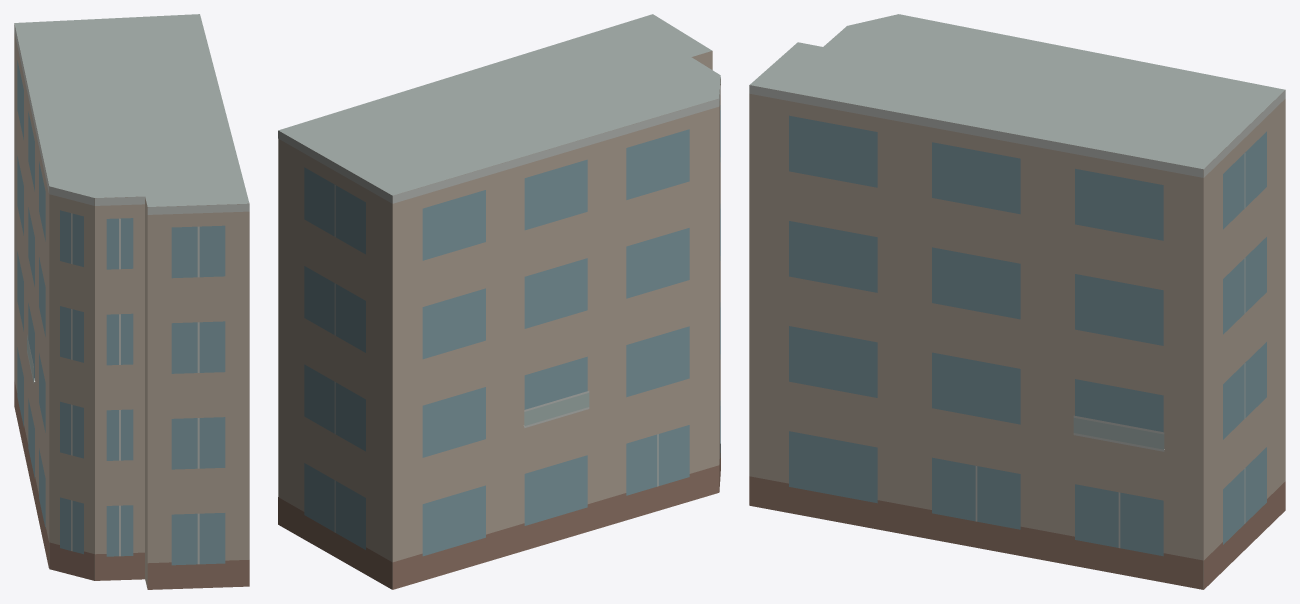
File: survey-upis-32724570.glb
The picture shows the model from 3 angles, left to right: view 1: azimuth 30°, elevation 25°; view 2: azimuth 150°, elevation 25°; view 3: azimuth 270°, elevation 25°; orthographic projection. The views are drawn at different scales.
Visible parts, largest first — view 1: survey-upis-32724570.tmp; view 2: survey-upis-32724570.tmp; view 3: survey-upis-32724570.tmp.
Boxes of the visible parts, x1,y1,x2,y2 form: survey-upis-32724570.tmp: (14, 14, 249, 589); survey-upis-32724570.tmp: (278, 14, 720, 589); survey-upis-32724570.tmp: (749, 14, 1285, 589).
Bounding box in the file's own units: 9.35 × 11.8 × 13.64.
